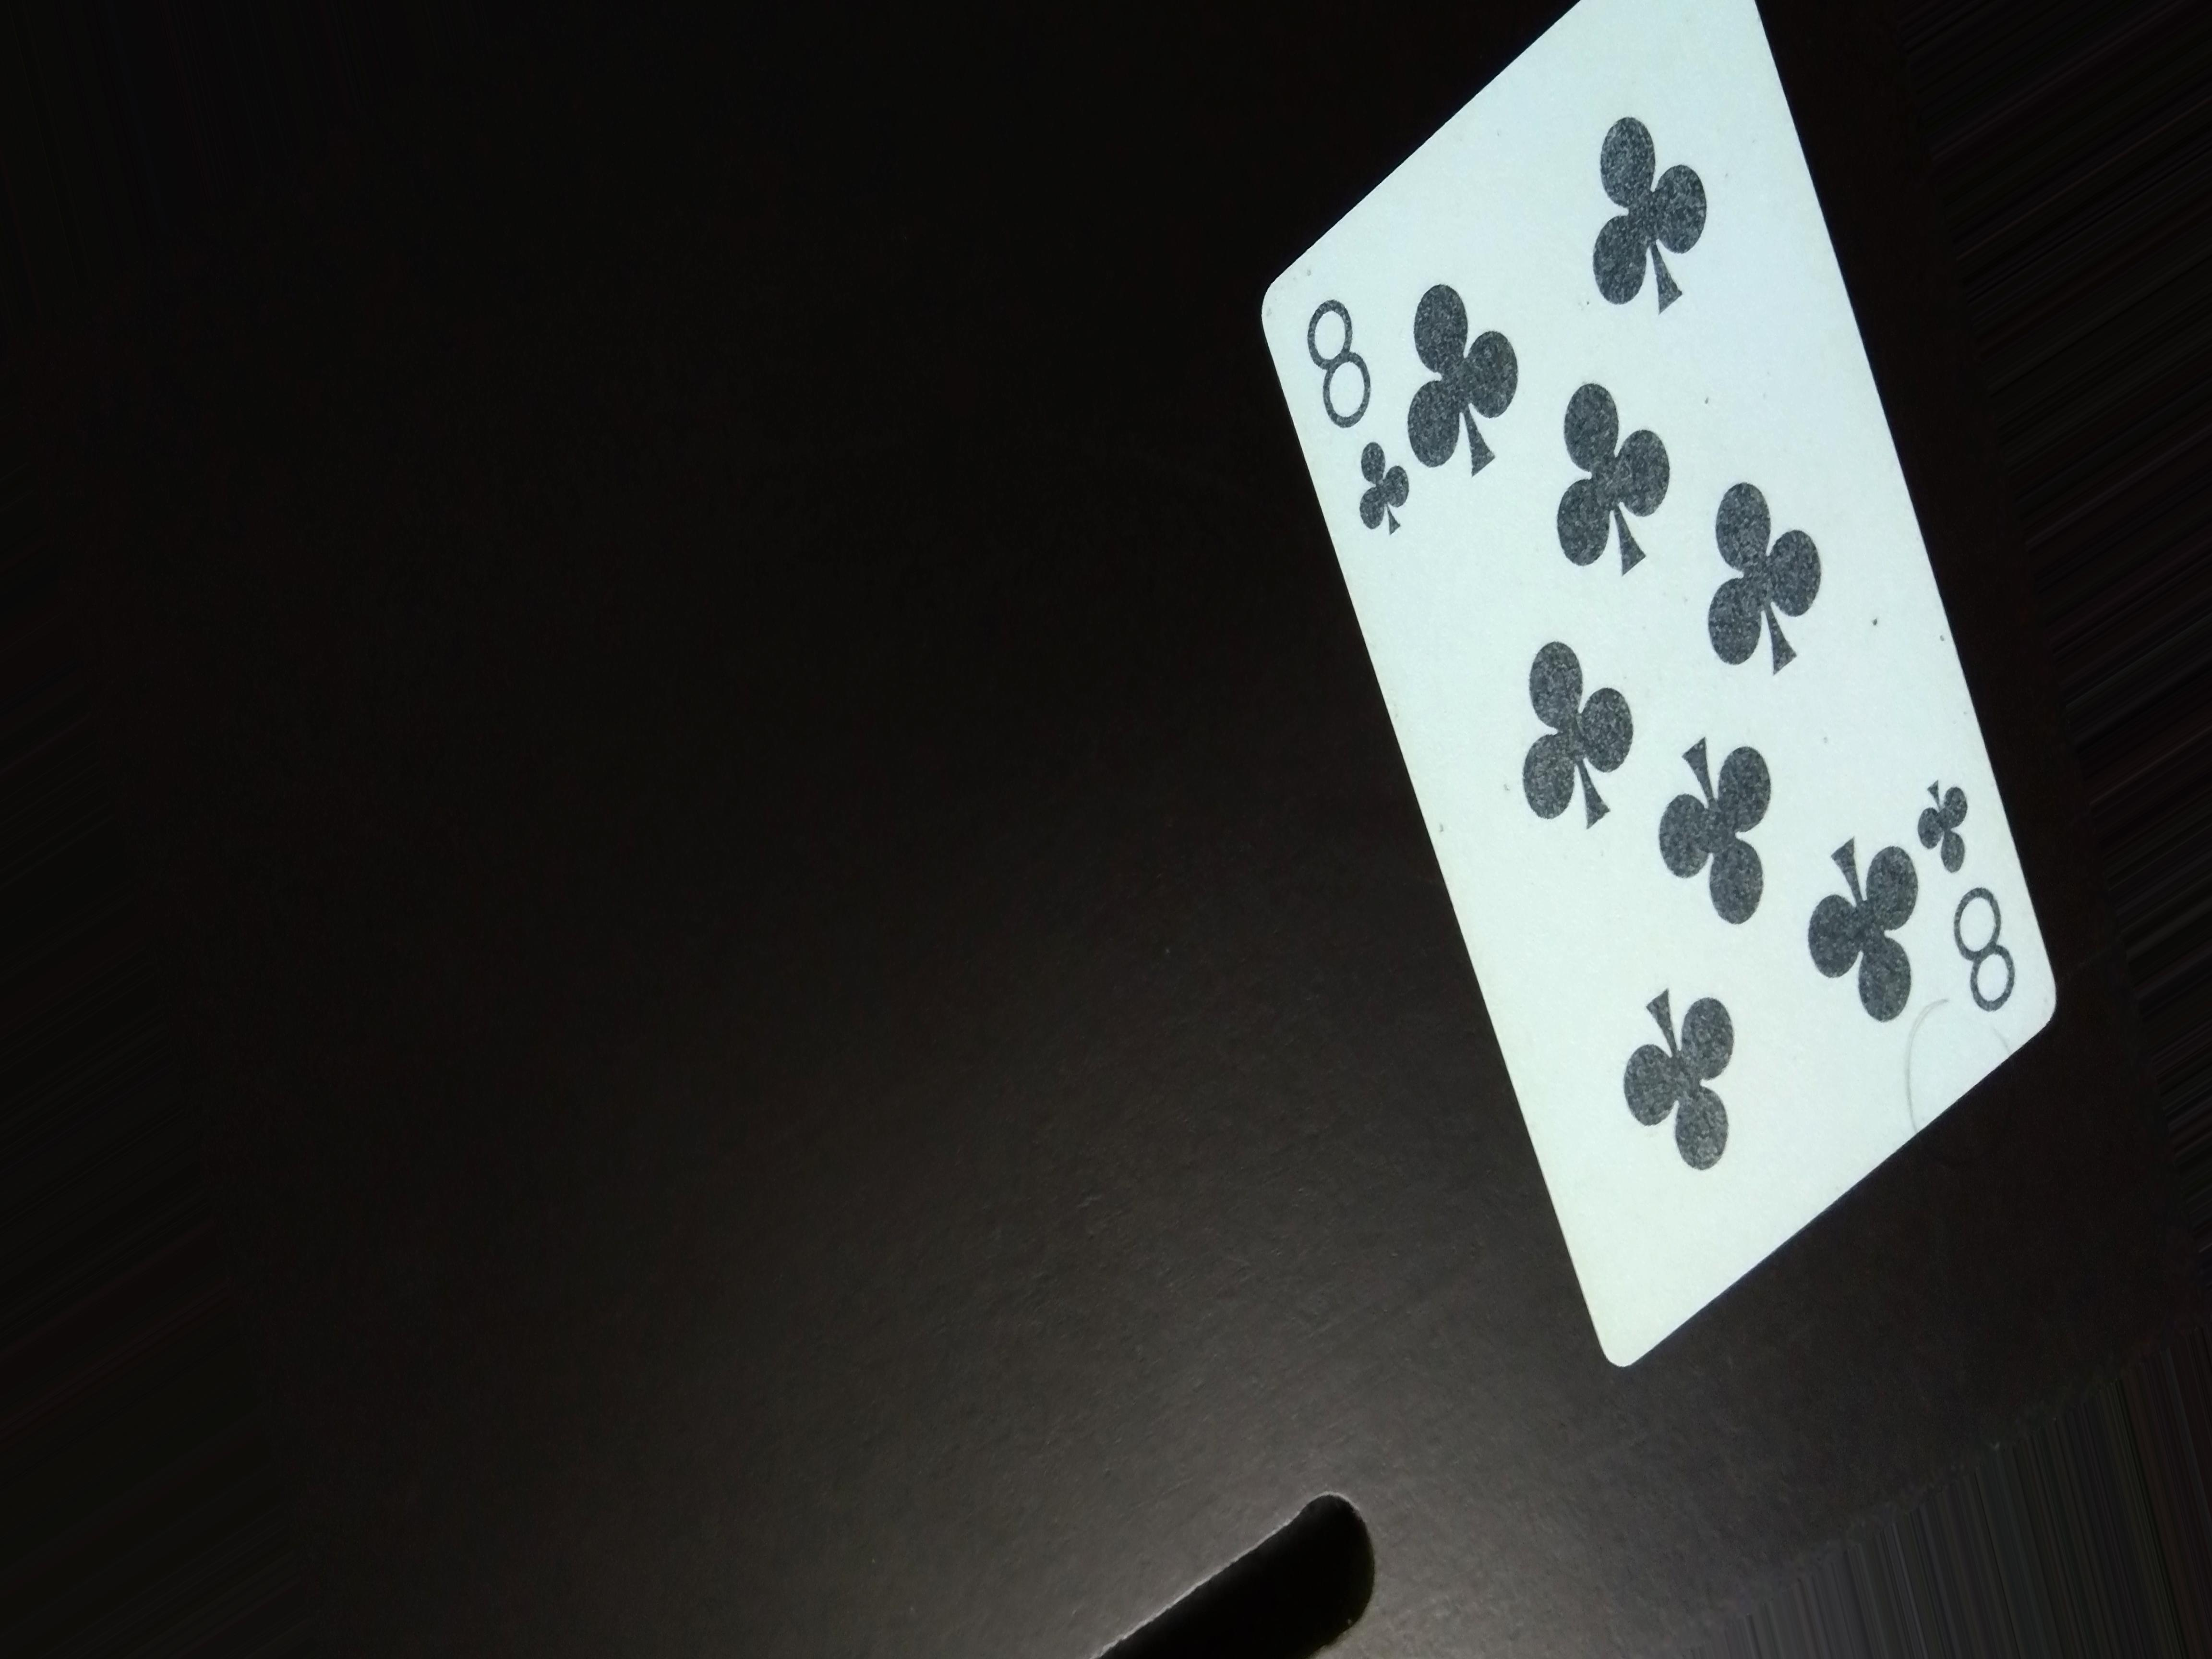8C: (1301, 298, 1446, 545)
